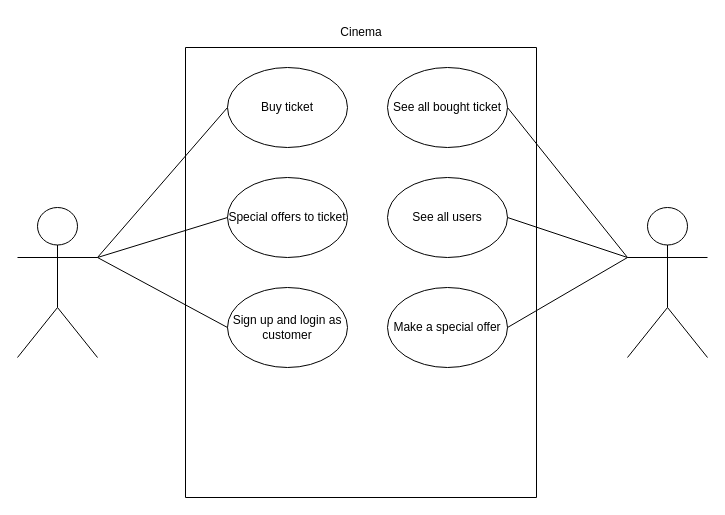
Image size: 725x515. Some labels were removed from this diagram. Each missing label, with the centre of its shape:
Admin: (x=667, y=282)
Customer: (x=57, y=282)
